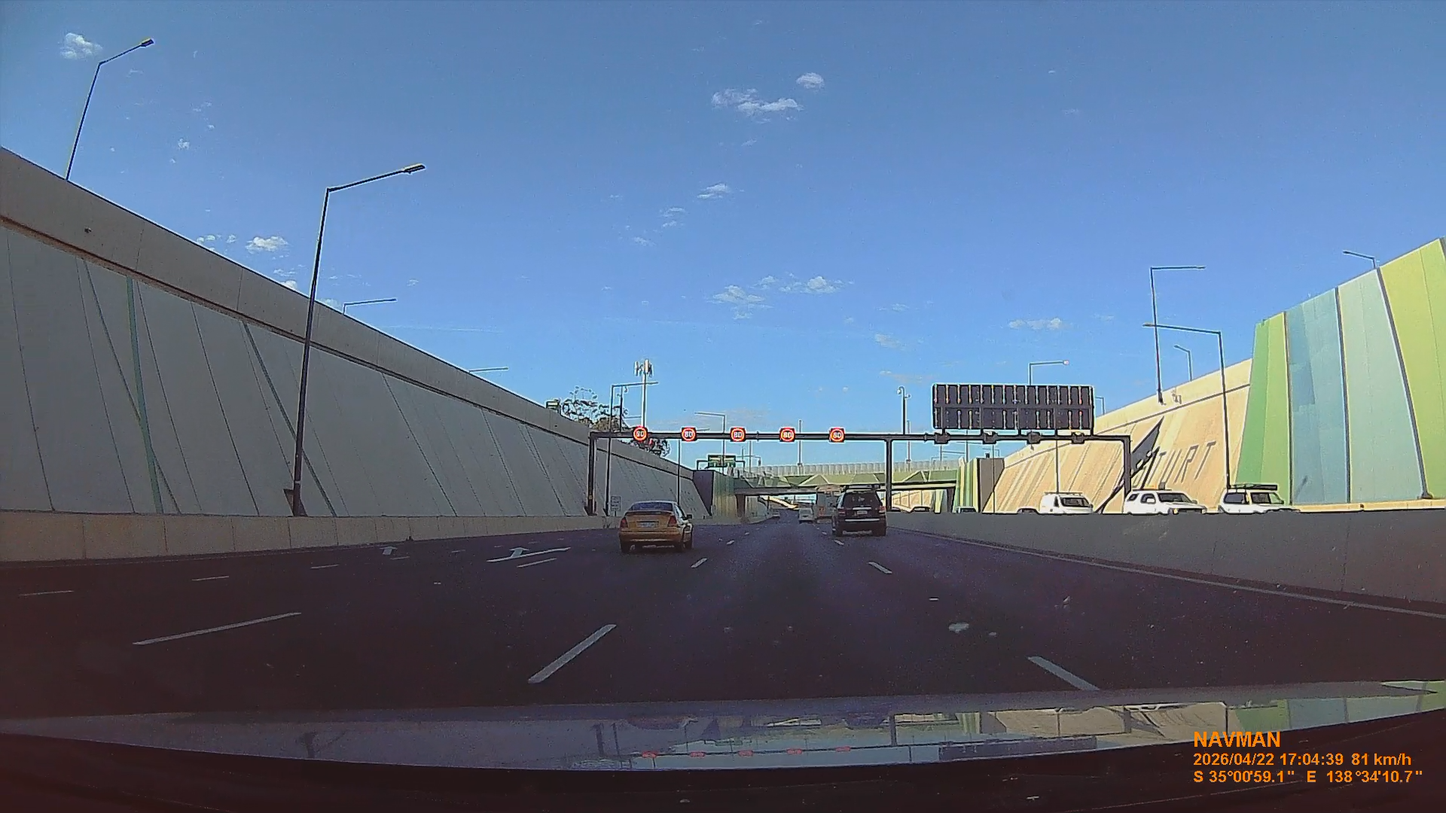road barriers: (892, 507, 1444, 606)
